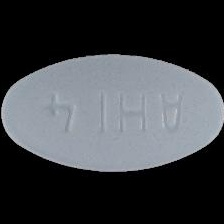61919-250: (0, 0, 224, 224)
